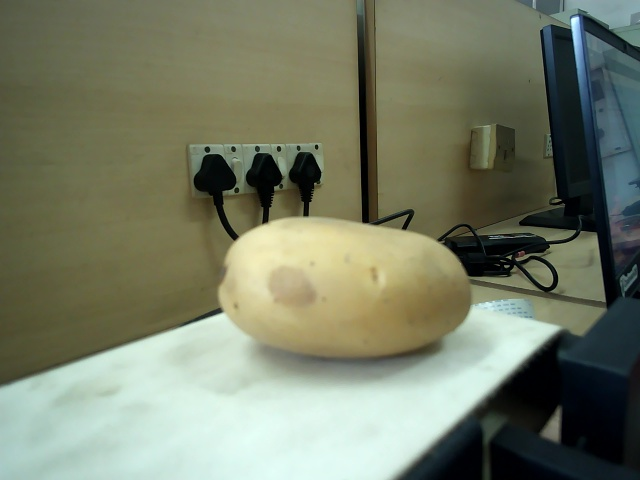Potato: (216, 217, 474, 361)
